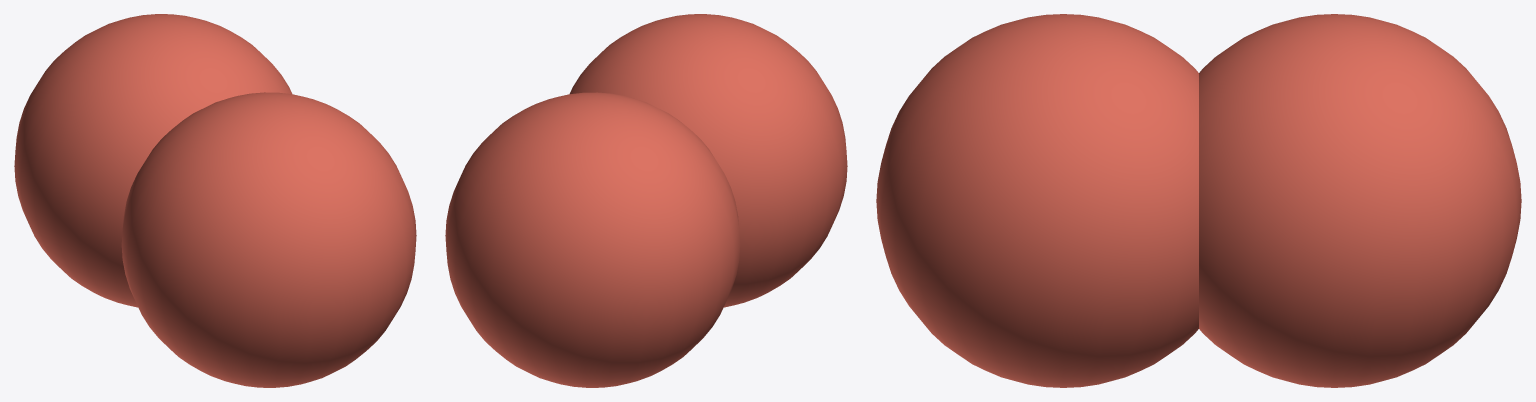
The model's file is oxygen.glb.
3 renders of one model, left to right at view 1: azimuth 30°, elevation 25°; view 2: azimuth 150°, elevation 25°; view 3: azimuth 270°, elevation 25°, orthographic. The views are drawn at different scales.
Parts seen in each view (by area): view 1: atom-O-1, atom-O-0; view 2: atom-O-0, atom-O-1; view 3: atom-O-0, atom-O-1.
Boxes of the visible parts, x1,y1,x2,y2 form: atom-O-1: [121, 92, 416, 387]; atom-O-0: [14, 14, 292, 307]; atom-O-0: [445, 92, 740, 387]; atom-O-1: [569, 14, 847, 307]; atom-O-0: [1199, 14, 1521, 387]; atom-O-1: [876, 14, 1198, 387].
Size of the model in its own units: 0.76 by 0.76 by 1.31.
